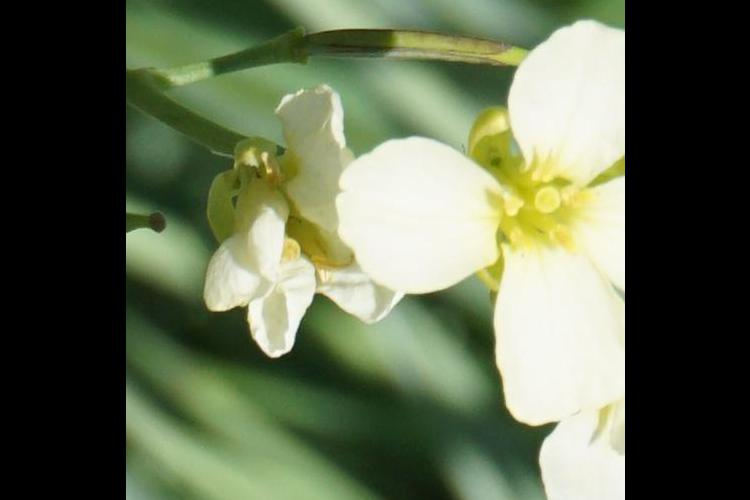pod: (230, 21, 531, 78), (130, 197, 167, 236)
white: (353, 26, 620, 417), (208, 100, 377, 372), (546, 396, 619, 500)
